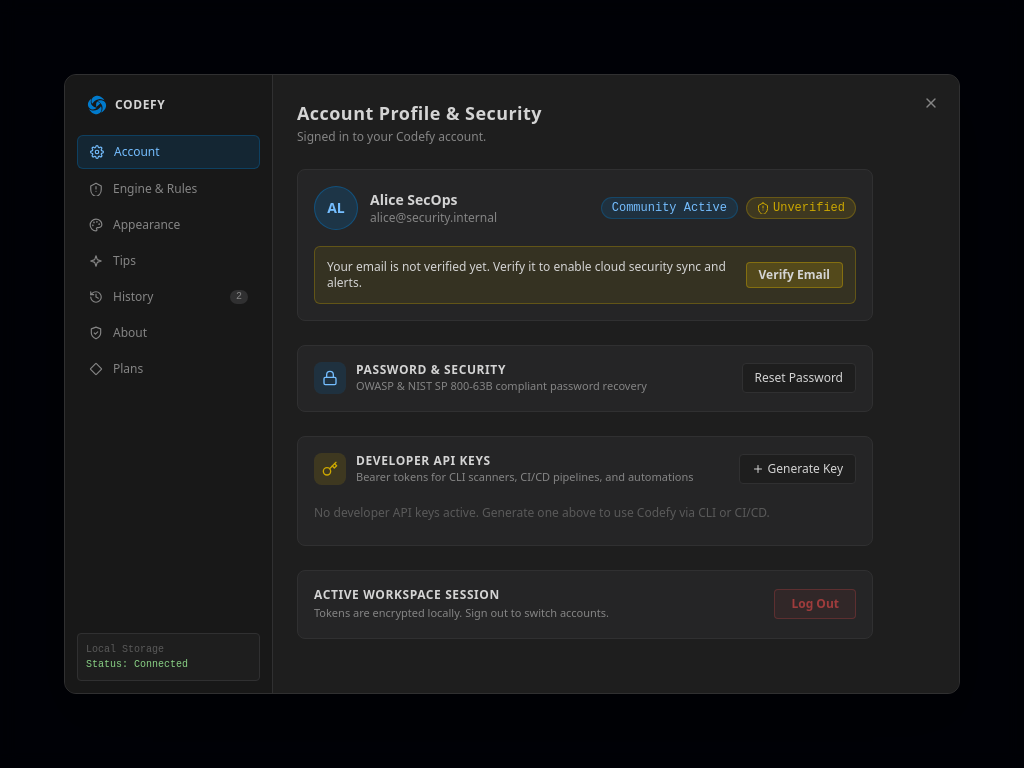
Test case: SettingsHistoryModal › switches to Tips tab and displays security guidance
The image size is (1024, 768).
Click the button "Tips".
click(168, 261)  # box [77,245,260,277]
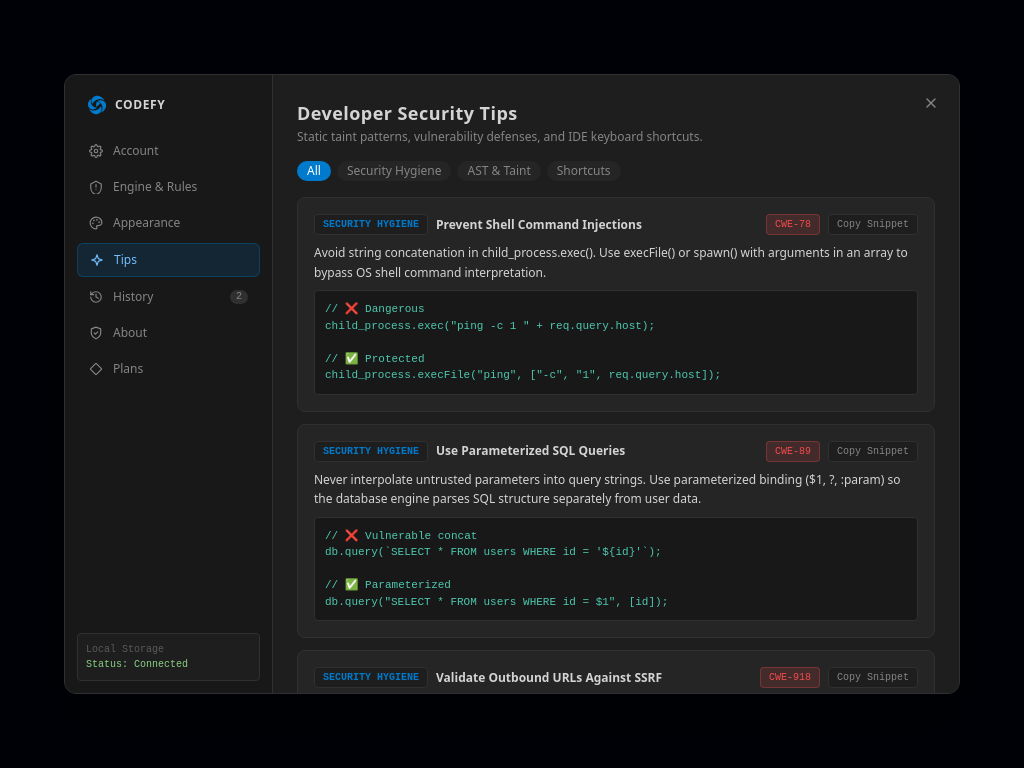
Check: the heading "Developer Security Tips" is shown, box [297,101,518,125]
Check: the heading "Prevent Shell Command Injections" is shown, box [436,216,642,232]
Check: the heading "Use Parameterized SQL Queries" is shown, box [436,443,625,459]
